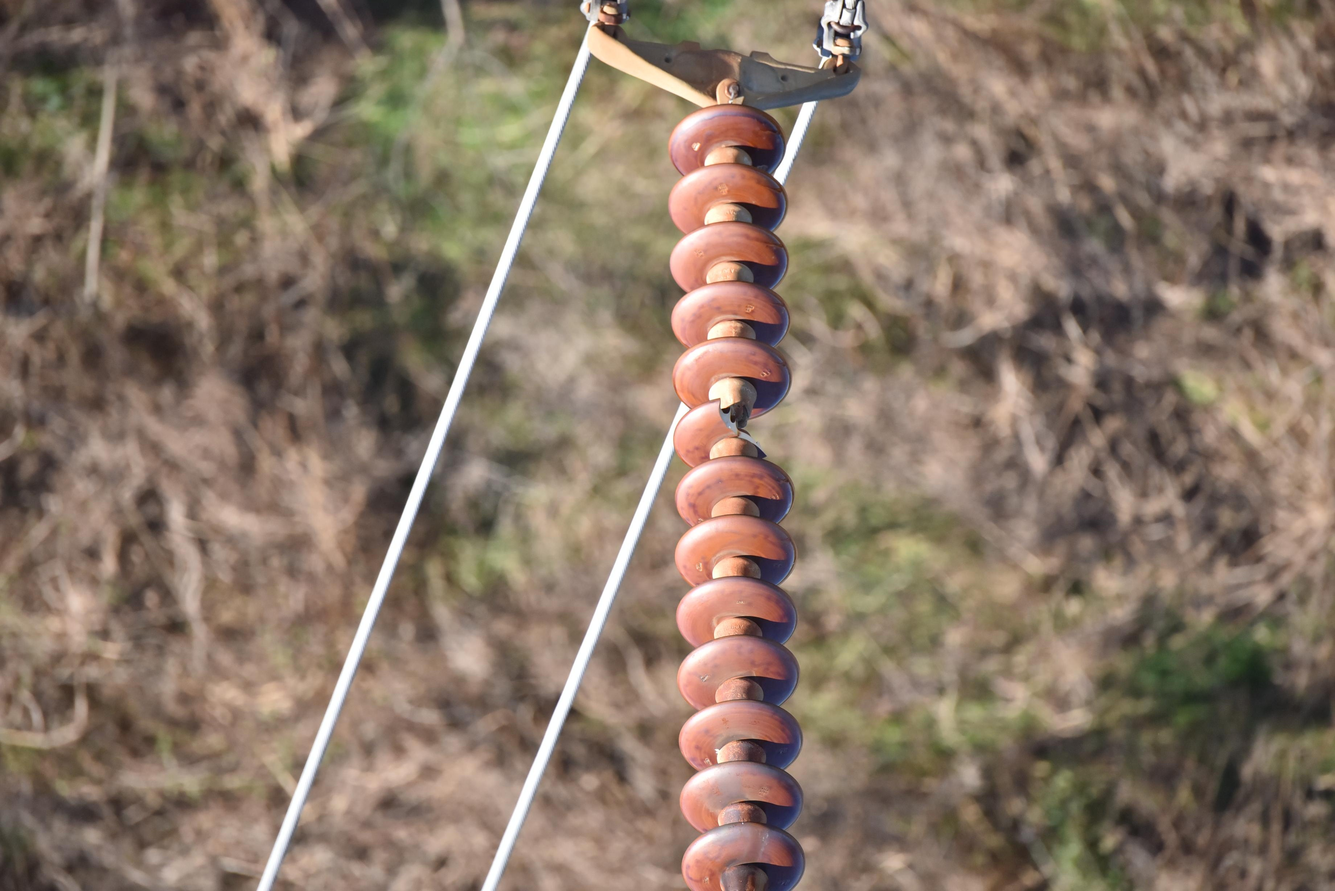damaged: (704, 398, 768, 457)
insulator: (664, 103, 804, 889)
